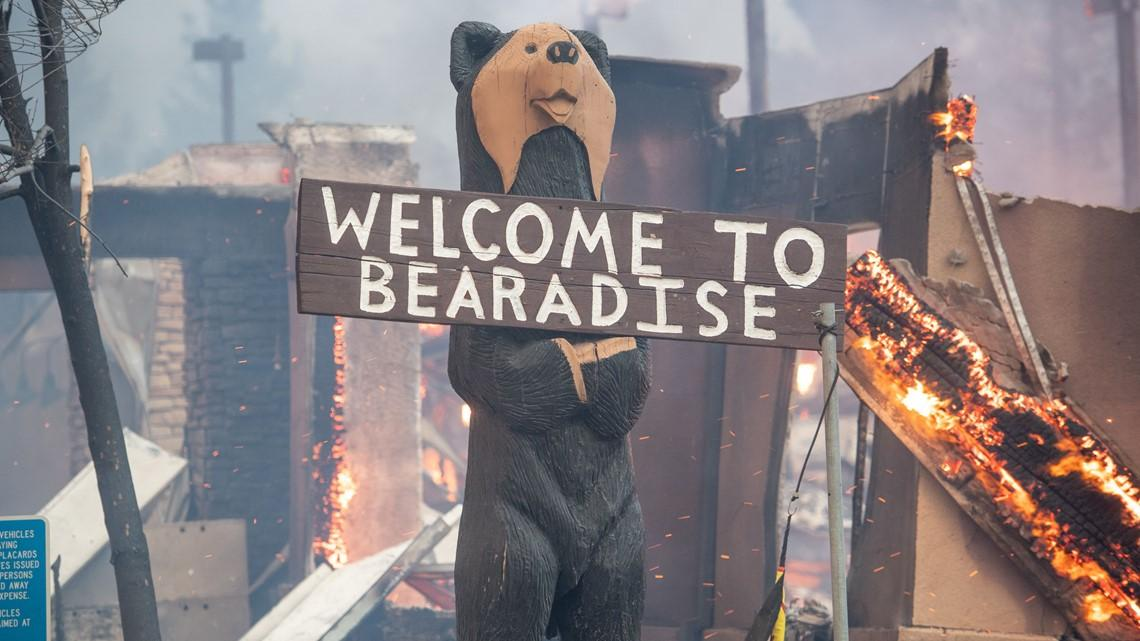fire: (847, 269, 1136, 627), (917, 81, 995, 155)
